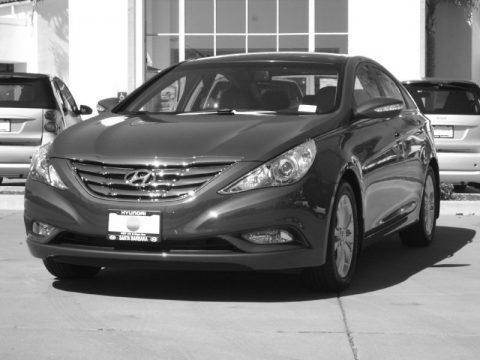car: (21, 49, 444, 286)
